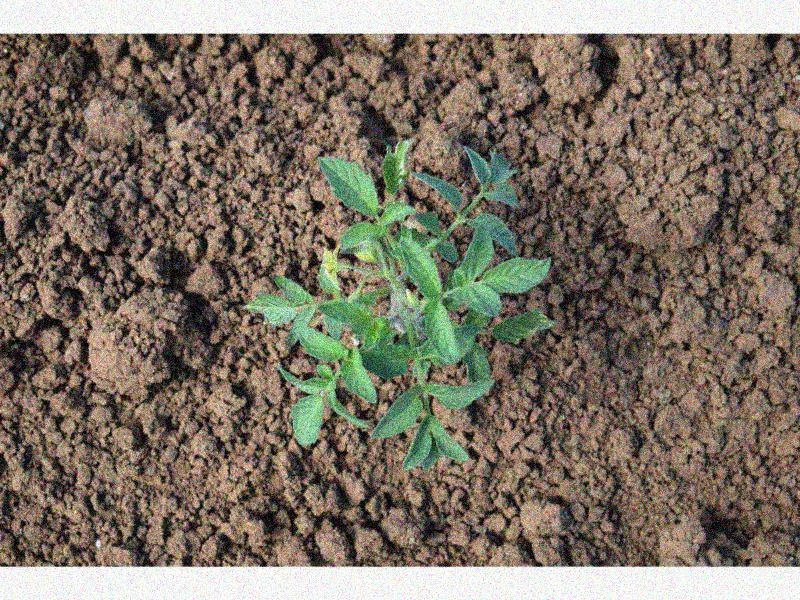tomato: (245, 134, 553, 471)
